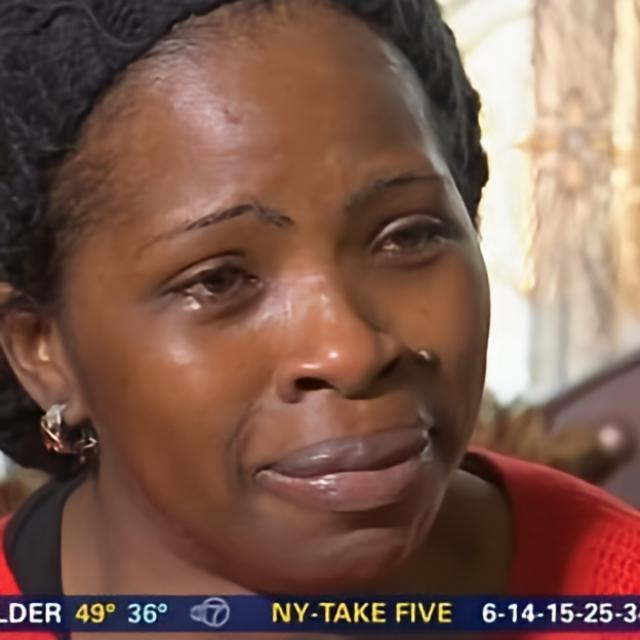sad: (50, 0, 494, 595)
